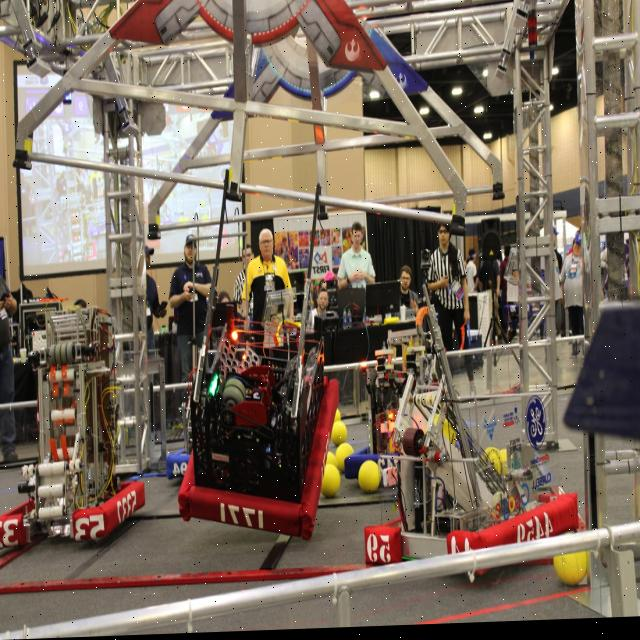robot: (361, 267, 578, 588), (178, 167, 344, 547), (0, 302, 147, 547), (344, 323, 469, 486)
